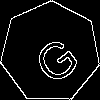G: (25, 27, 83, 88)
